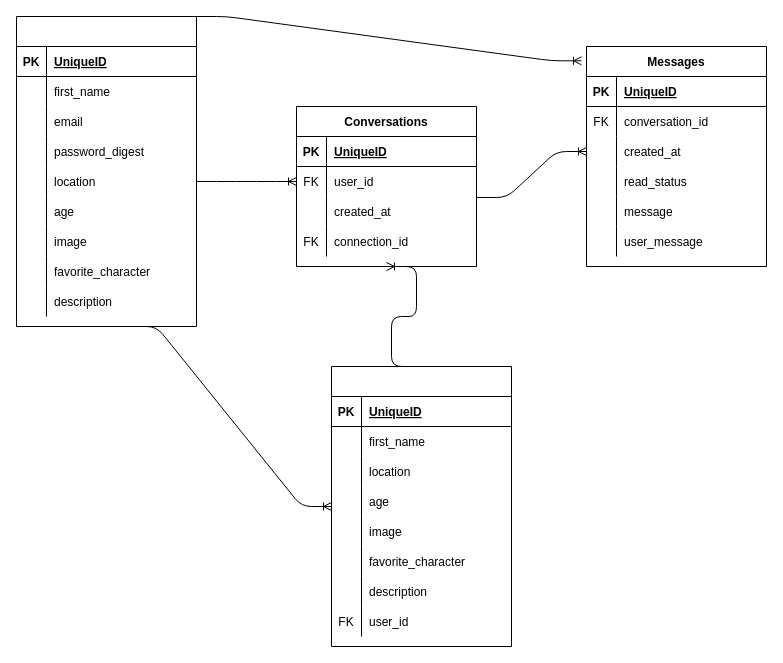
Image size: 783x663. Some labels were removed from this diagram. Each missing label, with the box of its shape:
Connections: (330, 366, 512, 646)
Users: (16, 16, 196, 326)
